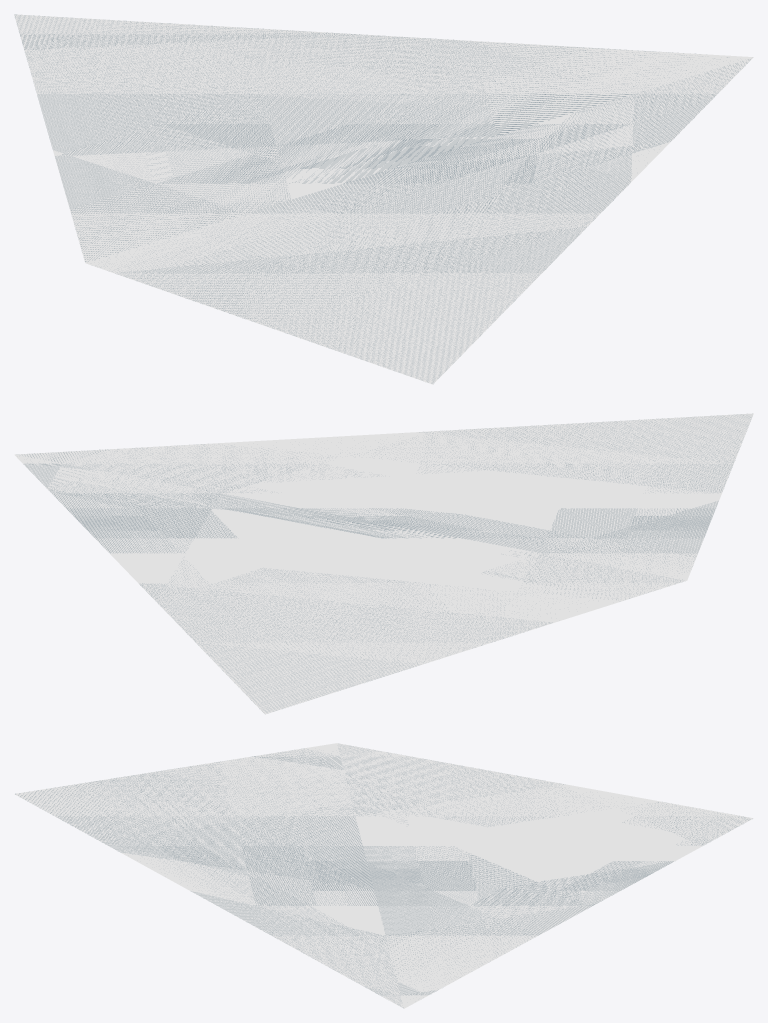
The picture shows the model from 3 angles, top to bottom: view 1: azimuth 30°, elevation 25°; view 2: azimuth 150°, elevation 25°; view 3: azimuth 270°, elevation 25°; orthographic projection. The views are drawn at different scales.
Visible parts, largest first — view 1: Group1; view 2: Group1; view 3: Group1.
Part boxes in pixels (x1=…): Group1: x1=14, y1=14, x2=753, y2=384; Group1: x1=14, y1=413, x2=753, y2=714; Group1: x1=14, y1=743, x2=753, y2=1008.
Bounding box in the file's own units: 3.97 × 0 × 4.67.
